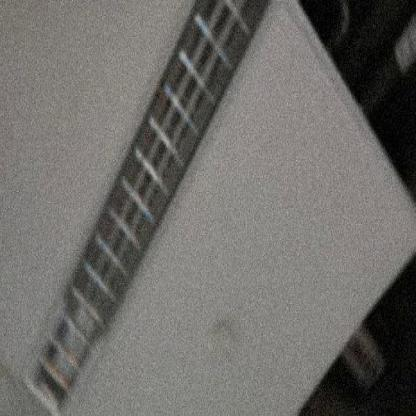light_off: (17, 5, 296, 415)
